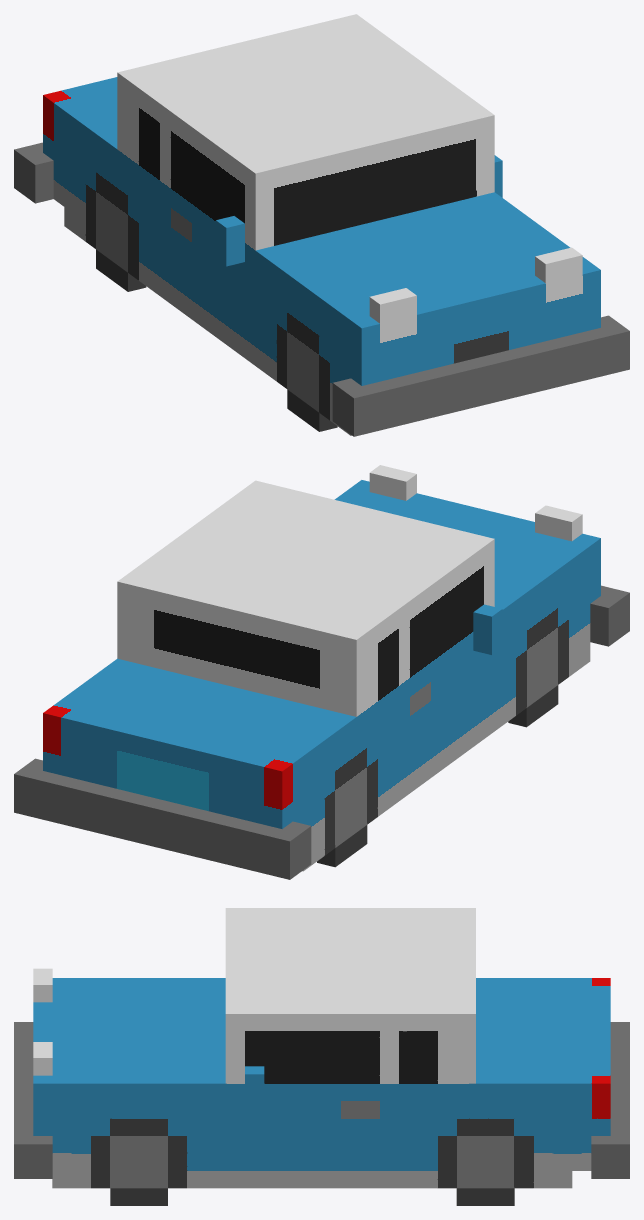
File: veh_car1.fbx
3 views of the same model, one above another, from view 1: azimuth 30°, elevation 25°; view 2: azimuth 150°, elevation 25°; view 3: azimuth 270°, elevation 25° (orthographic). The views are drawn at different scales.
Visible parts, largest first — view 1: veh_car1; view 2: veh_car1; view 3: veh_car1.
Part boxes in pixels (x1,y1,x2,y2): veh_car1: [14, 14, 629, 436]; veh_car1: [14, 465, 629, 879]; veh_car1: [14, 908, 629, 1205].
Size of the model in its own units: 1.5 by 3.2 by 1.1.
Materials: 1 (1 with a texture image).
